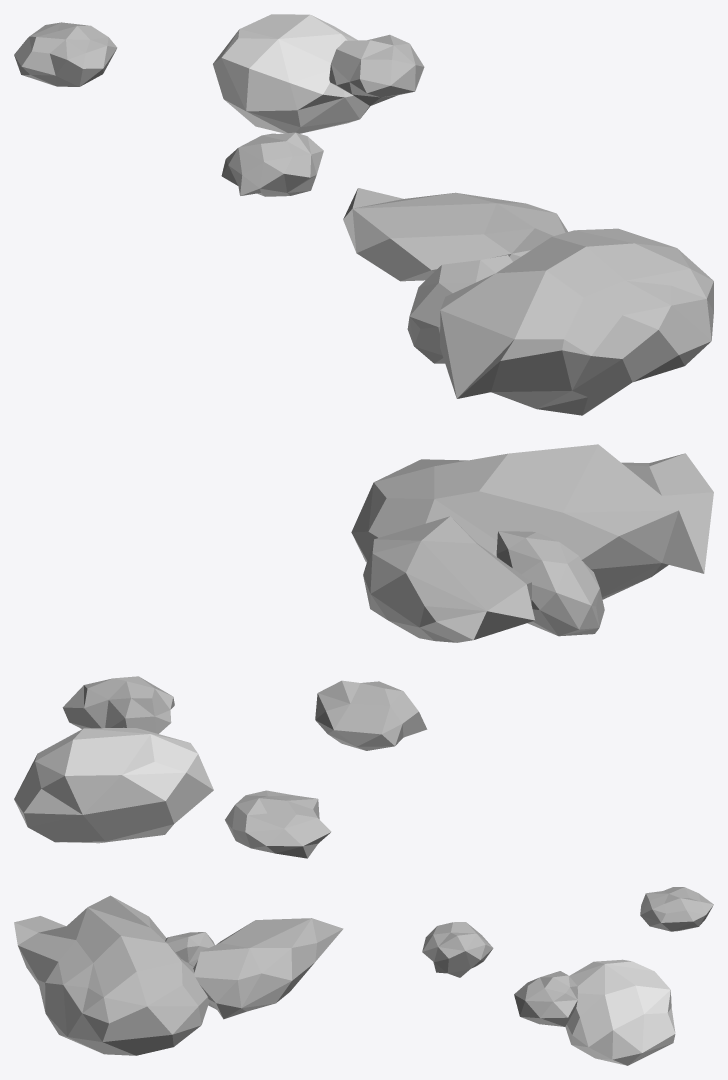
The model's file is stones_008.glb.
3 renders of one model, top to bottom at view 1: azimuth 30°, elevation 25°; view 2: azimuth 150°, elevation 25°; view 3: azimuth 270°, elevation 25°, orthographic. The views are drawn at different scales.
Parts seen in each view (by area): view 1: stones_008; view 2: stones_008; view 3: stones_008.
Boxes of the visible parts, x1,y1,x2,y2 form: stones_008: (14, 14, 713, 415); stones_008: (14, 444, 713, 858); stones_008: (14, 887, 713, 1065).
Size of the model in its own units: 4.89 by 2.13 by 12.27.
1 material, 1 textured.
